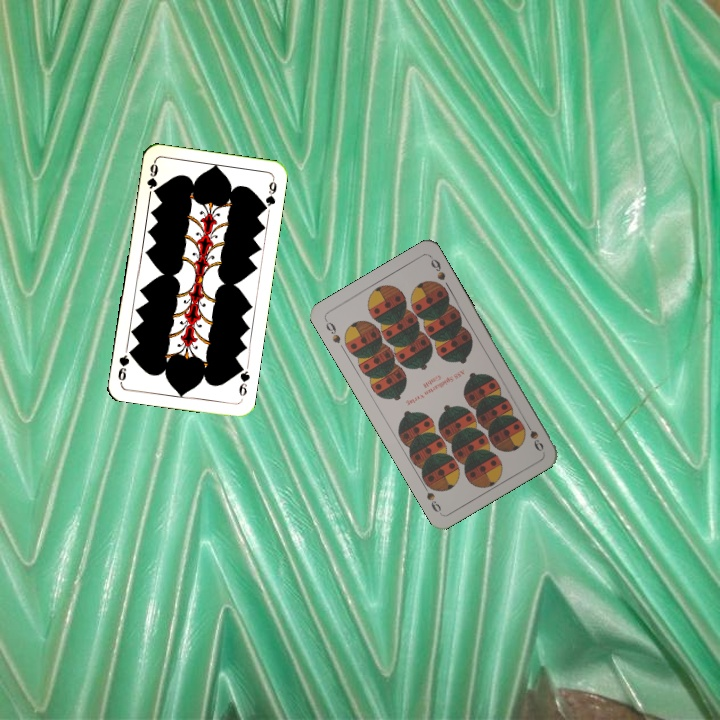G9: (143, 158, 161, 197), (235, 361, 252, 399)
S9: (520, 416, 546, 454), (321, 315, 343, 346)
